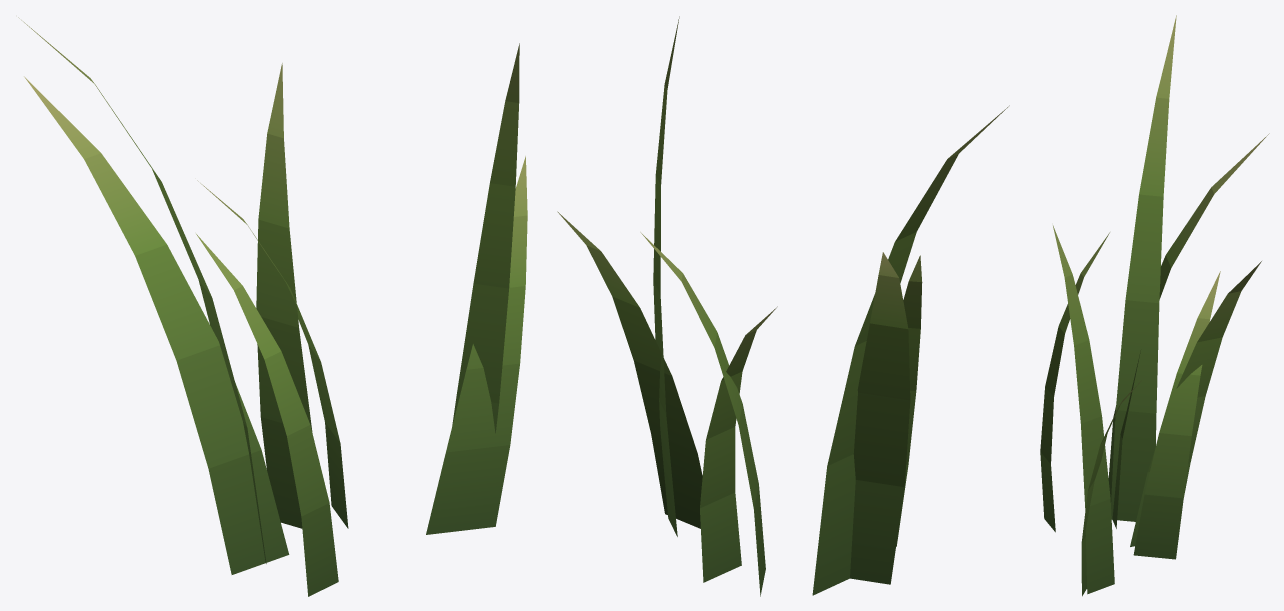
File: grass_clump_a.glb
The picture shows the model from 3 angles, left to right: view 1: azimuth 30°, elevation 25°; view 2: azimuth 150°, elevation 25°; view 3: azimuth 270°, elevation 25°; orthographic projection. The views are drawn at different scales.
Visible parts, largest first — view 1: grass_clump_a; view 2: grass_clump_a; view 3: grass_clump_a.
Part boxes in pixels (<box>): grass_clump_a: <box>18,17,527,596</box>; grass_clump_a: <box>557,16,1009,596</box>; grass_clump_a: <box>1040,15,1269,596</box>.
Bounding box in the file's own units: 0.4501 × 0.5 × 0.2423.
